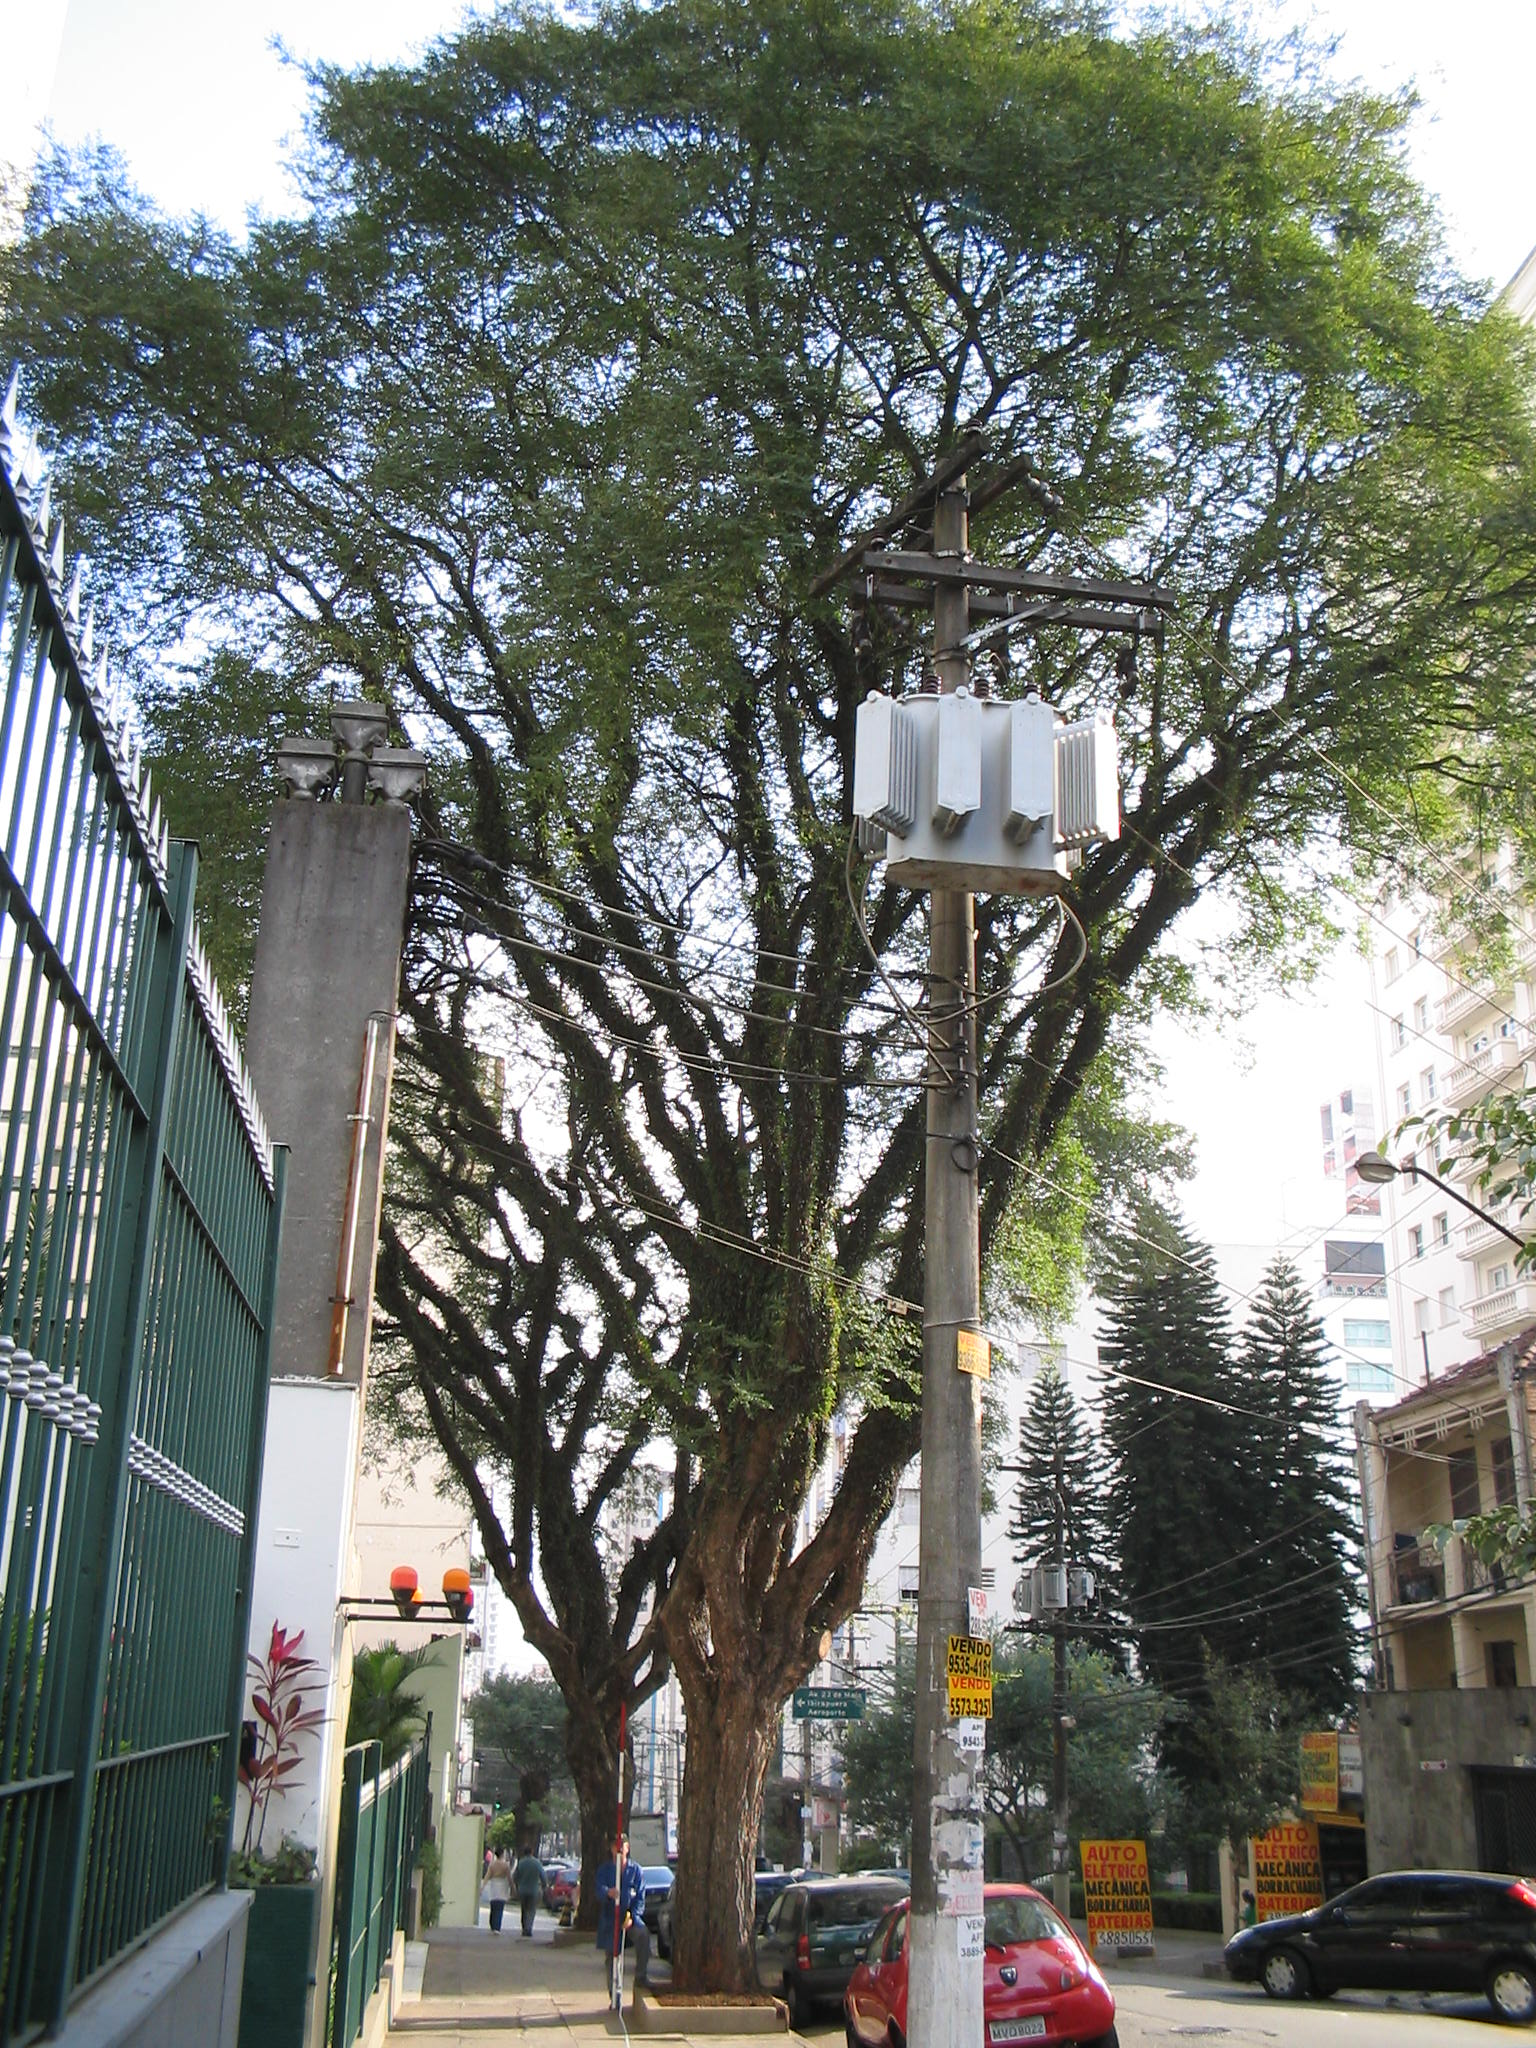crown: (11, 16, 1536, 1022)
stem: (649, 1721, 795, 1995)
stick: (595, 1701, 641, 2008)
tree: (6, 11, 1536, 2004)
